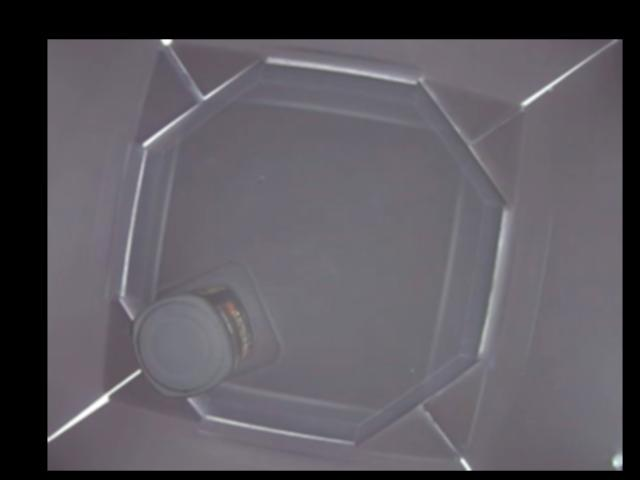Cup: (131, 258, 280, 396)
